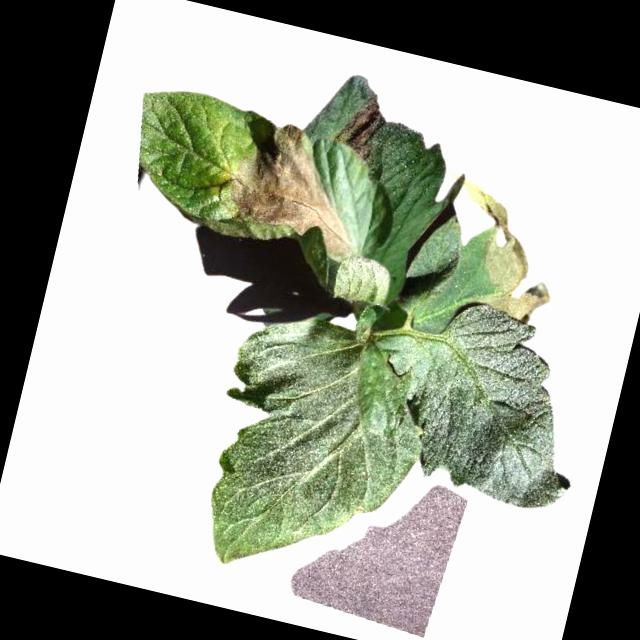Late_blight: (220, 113, 380, 265), (435, 174, 578, 326), (328, 90, 388, 164)
healthy: (188, 301, 449, 605), (338, 279, 608, 520)
